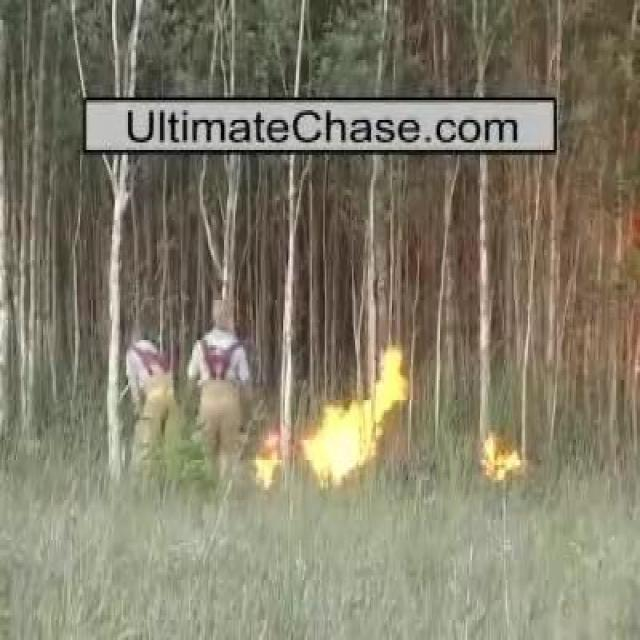Fire: (300, 351, 412, 484), (482, 435, 520, 485)
